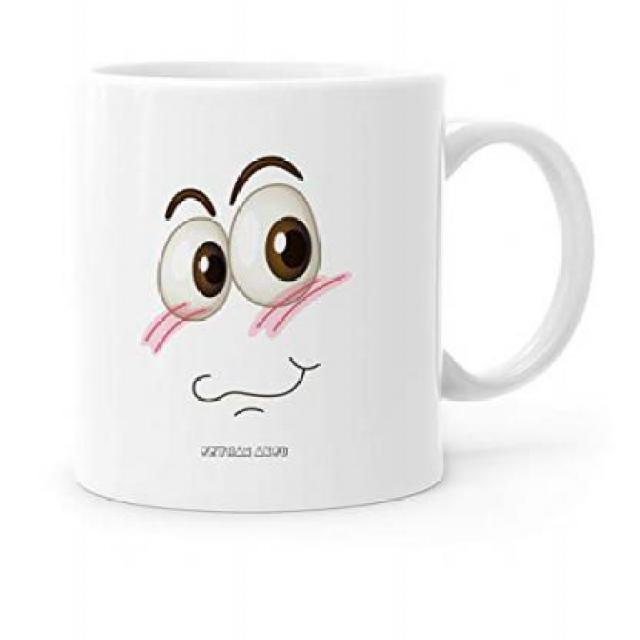taza: (76, 59, 596, 518)
